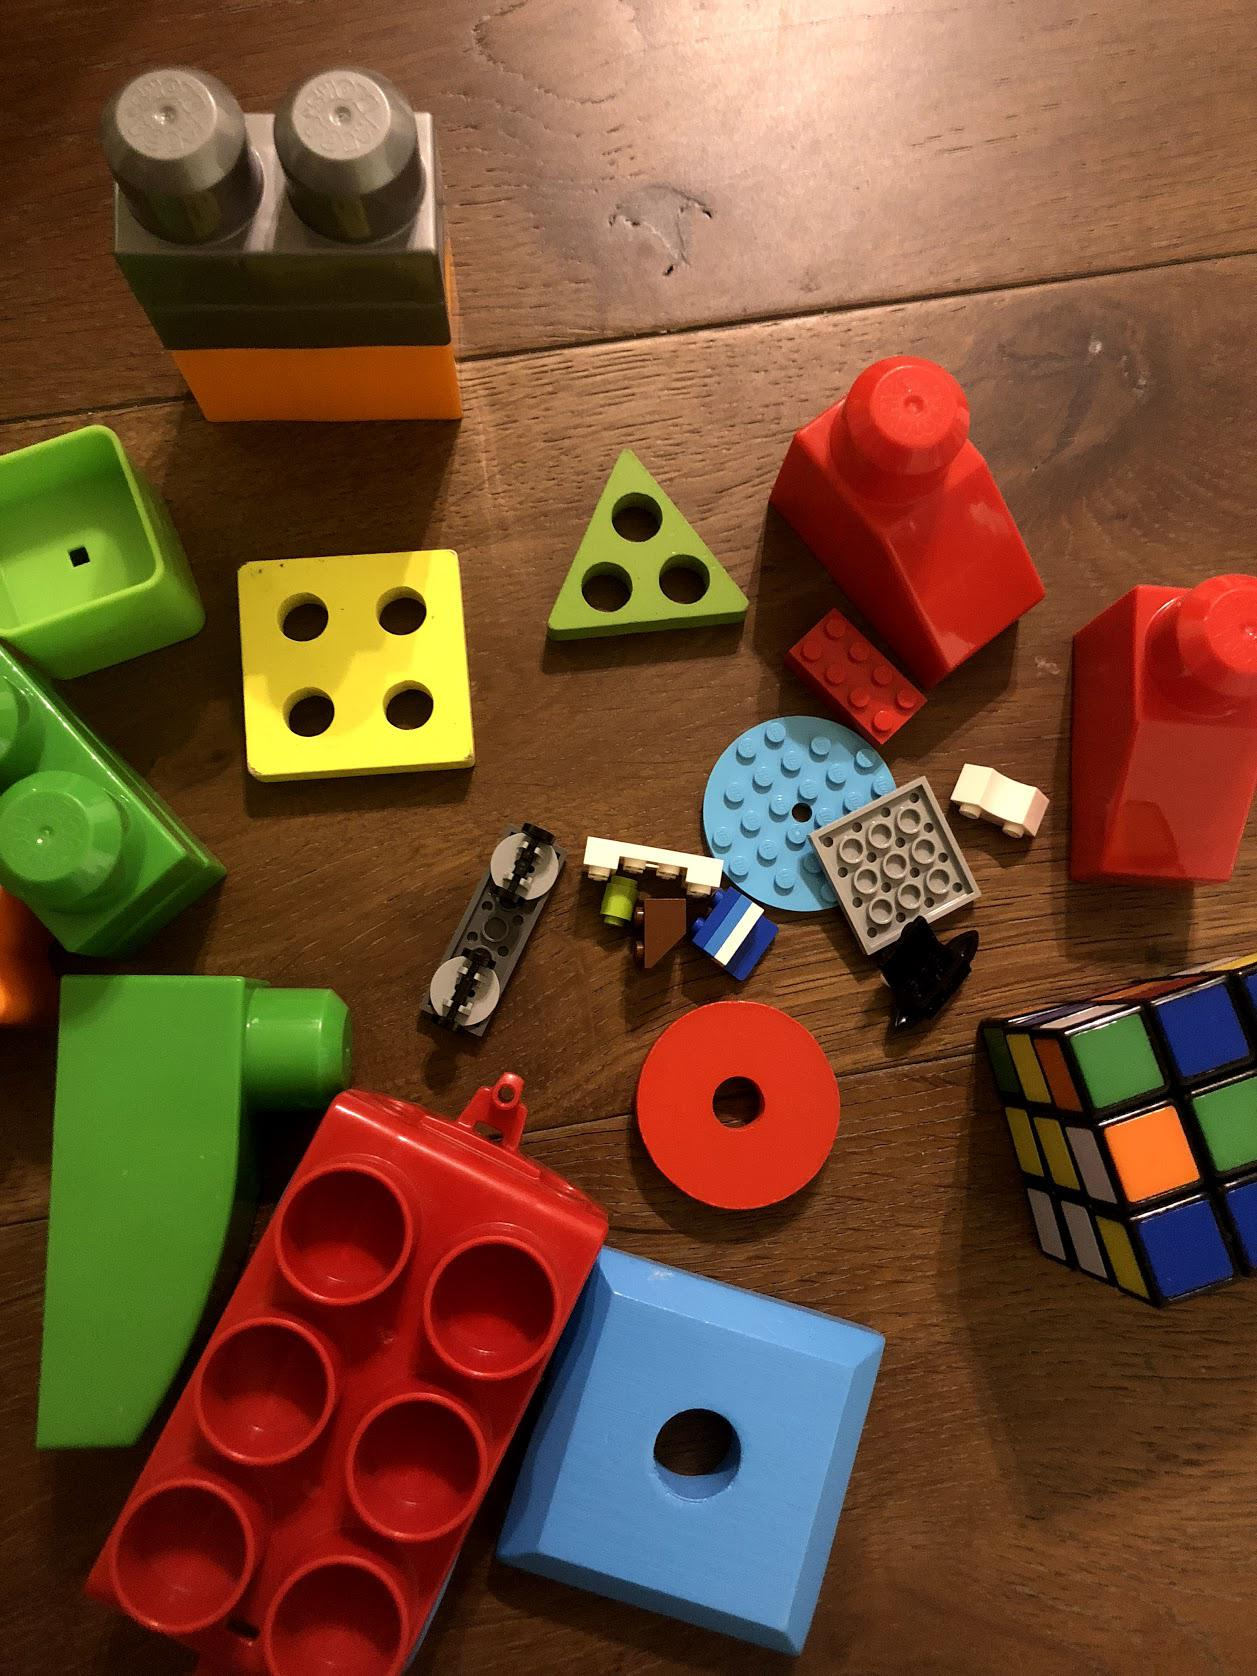Circle: (632, 998, 848, 1219)
Square: (238, 553, 473, 772)
Triangle: (541, 443, 751, 633)
